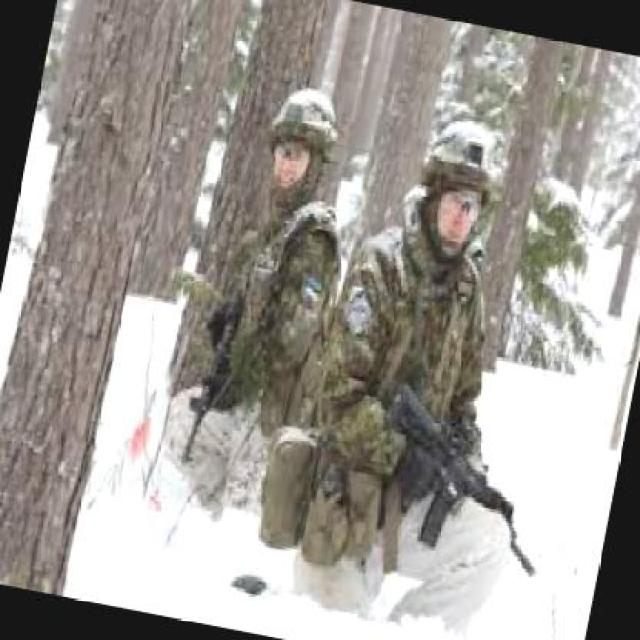MIL_Pax: (282, 101, 590, 634), (185, 76, 377, 467)
